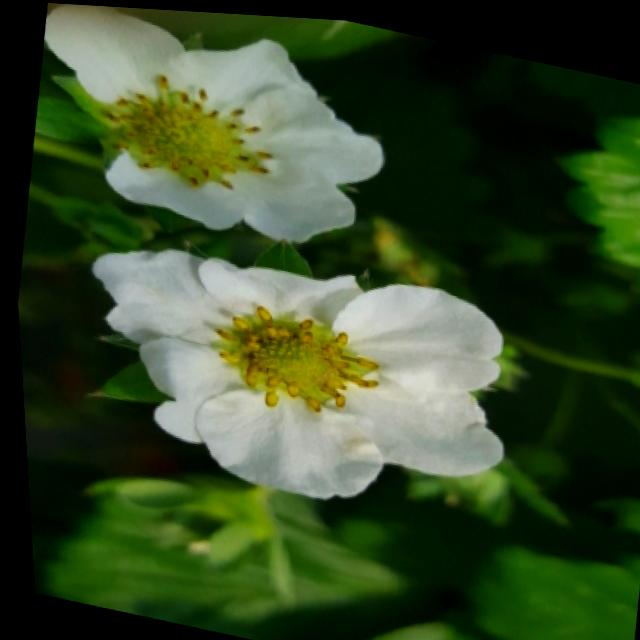Blossom Blight: (97, 70, 276, 194)
